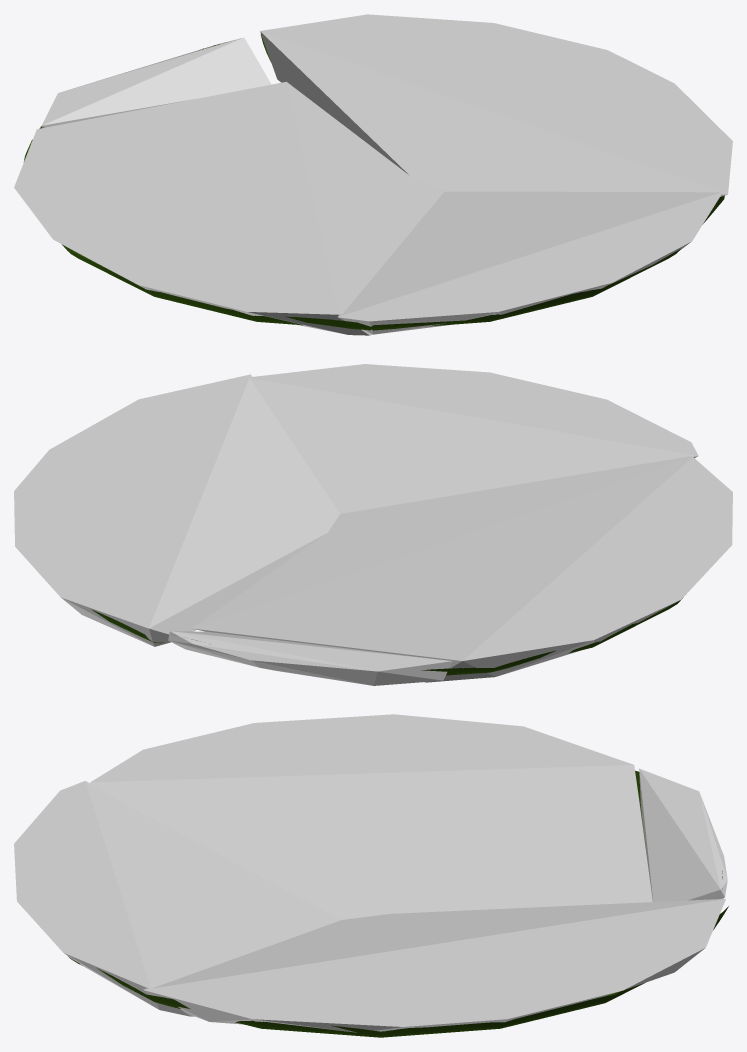
Rendered from SM_Lotus_Pad_01.fbx.
3 views of the same model, one above another, from view 1: azimuth 30°, elevation 25°; view 2: azimuth 150°, elevation 25°; view 3: azimuth 270°, elevation 25° (orthographic). The views are drawn at different scales.
Visible parts, largest first — view 1: SM_Lotus_Pad_01_ConvexHulls, SM_Lotus_Pad_01_LOD0; view 2: SM_Lotus_Pad_01_ConvexHulls, SM_Lotus_Pad_01_LOD0; view 3: SM_Lotus_Pad_01_ConvexHulls, SM_Lotus_Pad_01_LOD0.
Part boxes in pixels (x1=…): SM_Lotus_Pad_01_ConvexHulls: x1=14, y1=14, x2=732, y2=335; SM_Lotus_Pad_01_LOD0: x1=24, y1=34, x2=724, y2=330; SM_Lotus_Pad_01_ConvexHulls: x1=14, y1=364, x2=732, y2=685; SM_Lotus_Pad_01_LOD0: x1=91, y1=597, x2=683, y2=675; SM_Lotus_Pad_01_ConvexHulls: x1=14, y1=714, x2=727, y2=1032; SM_Lotus_Pad_01_LOD0: x1=68, y1=770, x2=728, y2=1037.
Bounding box in the file's own units: 66.07 × 64.19 × 2.79.
1 material, 1 textured.
